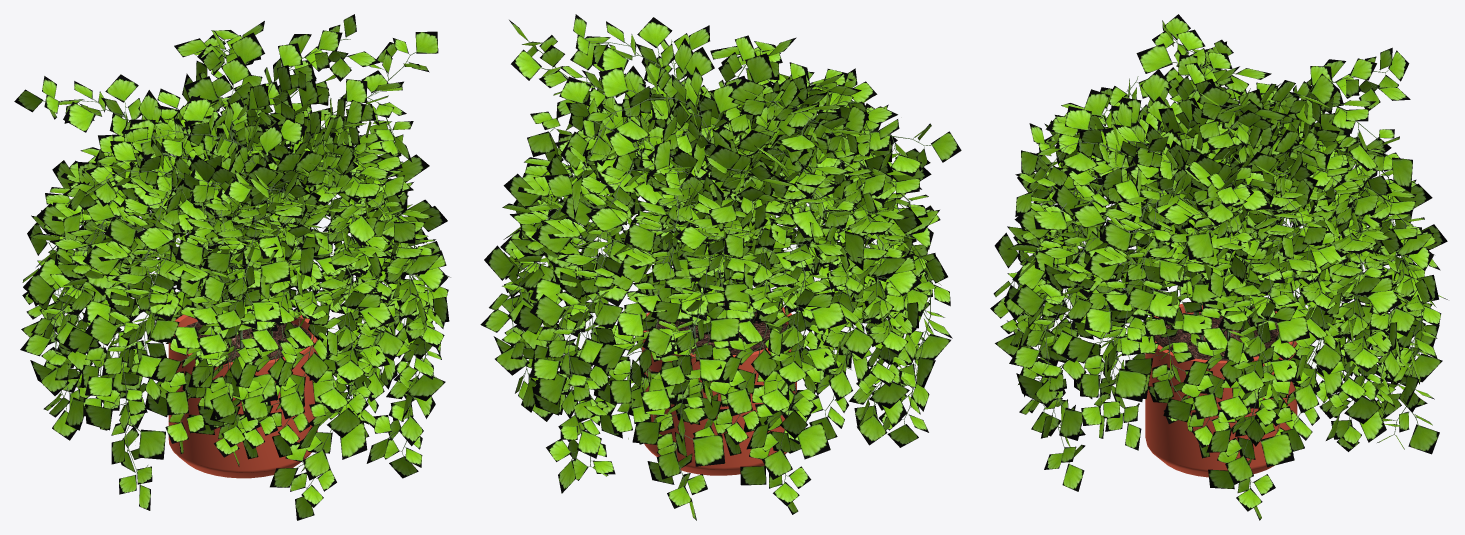
The model's file is fern.glb.
3 views of the same model, side by side, from view 1: azimuth 30°, elevation 25°; view 2: azimuth 150°, elevation 25°; view 3: azimuth 270°, elevation 25° (orthographic). The views are drawn at different scales.
Visible parts, largest first — view 1: Cube.011, Cube.017, Cube.014, Cube.041, Cube.018, Cube.021, Cube.020, Cube.015, Cube.049, Cylinder.010, Cube.052, Cube.053 (+27 smaller); view 2: Cube.026, Cube.029, Cube.023, Cube.030, Cube.027, Cube.020, Cube.033, Cube.017, Cube.052, Cube.024, Cube.032, Cube.049 (+26 smaller); view 3: Cube.035, Cube.042, Cube.041, Cube.032, Cube.029, Cube.036, Cube.039, Cube.038, Cube.040, Cube.012, Cylinder.010, Cube.052 (+26 smaller).
Boxes of the visible parts, left/top/right/bottom form: Cube.011: left=270, top=228, right=394, bottom=520; Cube.017: left=85, top=225, right=210, bottom=510; Cube.014: left=188, top=179, right=302, bottom=454; Cube.041: left=363, top=192, right=448, bottom=478; Cube.018: left=145, top=169, right=266, bottom=453; Cube.021: left=63, top=150, right=208, bottom=430; Cube.020: left=20, top=199, right=141, bottom=430; Cube.015: left=244, top=173, right=349, bottom=457; Cube.049: left=216, top=14, right=380, bottom=268; Cylinder.010: left=168, top=314, right=317, bottom=478; Cube.052: left=174, top=21, right=274, bottom=269; Cube.053: left=210, top=170, right=325, bottom=459; Cube.026: left=632, top=224, right=759, bottom=520; Cube.029: left=529, top=206, right=660, bottom=493; Cube.023: left=740, top=219, right=850, bottom=514; Cube.030: left=592, top=150, right=720, bottom=439; Cube.027: left=700, top=160, right=810, bottom=455; Cube.020: left=825, top=189, right=921, bottom=445; Cube.033: left=514, top=131, right=664, bottom=414; Cube.017: left=849, top=160, right=952, bottom=447; Cube.052: left=560, top=61, right=737, bottom=219; Cube.024: left=748, top=151, right=874, bottom=439; Cube.032: left=480, top=174, right=597, bottom=412; Cube.049: left=573, top=14, right=762, bottom=244; Cube.035: left=1206, top=234, right=1318, bottom=520; Cube.042: left=1062, top=157, right=1202, bottom=438; Cube.041: left=1009, top=203, right=1137, bottom=491; Cube.032: left=1315, top=208, right=1401, bottom=451; Cube.029: left=1345, top=178, right=1442, bottom=454; Cube.036: left=1254, top=169, right=1350, bottom=451; Cube.039: left=1163, top=180, right=1285, bottom=458; Cube.038: left=1123, top=203, right=1239, bottom=432; Cube.040: left=1180, top=153, right=1276, bottom=336; Cube.012: left=1004, top=127, right=1145, bottom=383; Cylinder.010: left=1145, top=304, right=1297, bottom=477; Cube.052: left=1212, top=73, right=1412, bottom=192.
Bounding box in the file's own units: 1.08 × 1.01 × 1.05.
3 materials, 2 textured.
